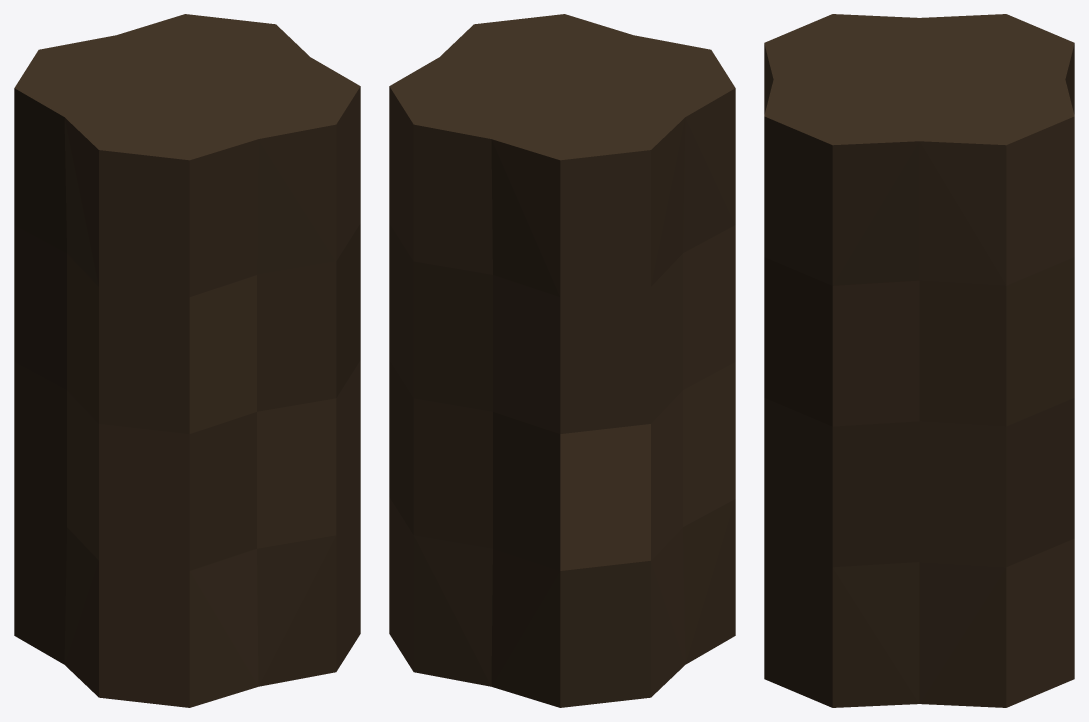
Rendered from Section_3.glb.
The picture shows the model from 3 angles, left to right: view 1: azimuth 30°, elevation 25°; view 2: azimuth 150°, elevation 25°; view 3: azimuth 270°, elevation 25°; orthographic projection. The views are drawn at different scales.
Visible parts, largest first — view 1: Section; view 2: Section; view 3: Section.
Part boxes in pixels (bbox=[...]): Section: bbox=[14, 14, 360, 707]; Section: bbox=[389, 14, 735, 707]; Section: bbox=[764, 14, 1074, 707].
Size of the model in its own units: 2 by 4 by 2.
